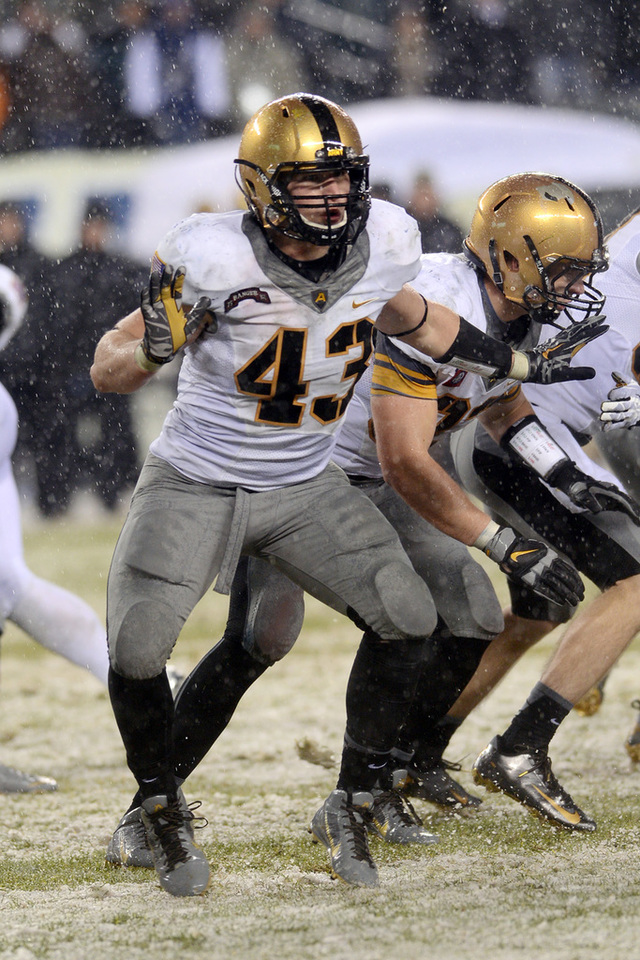helmet: (469, 171, 612, 296), (225, 106, 375, 189)
